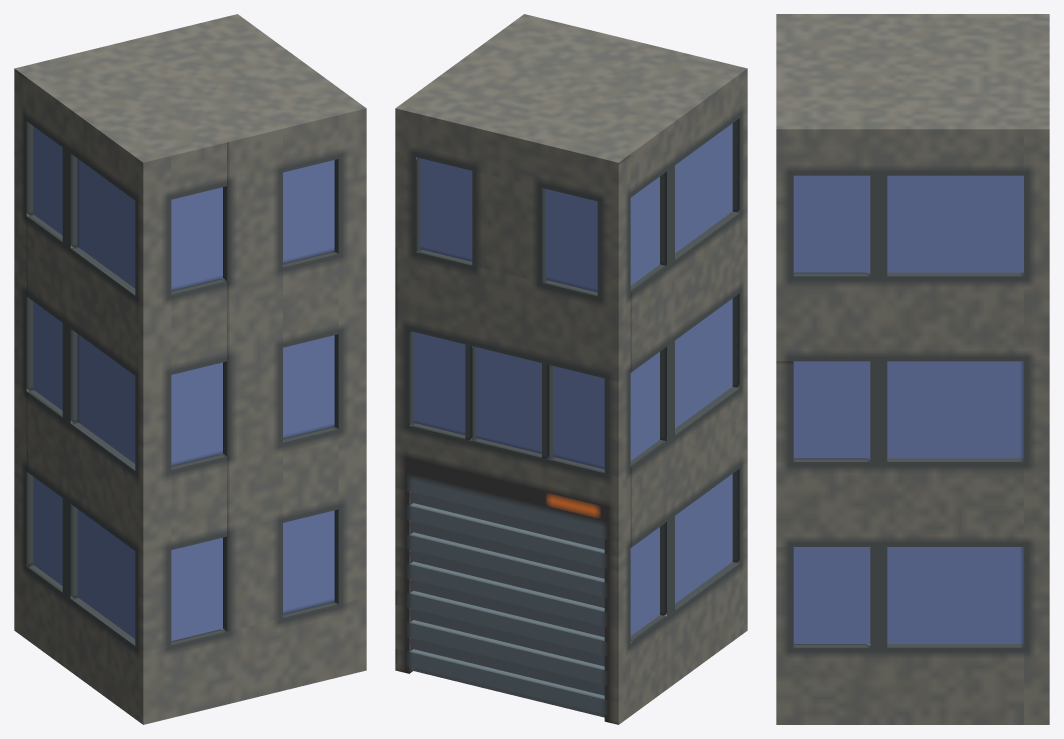
The model's file is budynek_un3_01.dae.
The picture shows the model from 3 angles, left to right: view 1: azimuth 30°, elevation 25°; view 2: azimuth 150°, elevation 25°; view 3: azimuth 270°, elevation 25°; orthographic projection. The views are drawn at different scales.
Visible parts, largest first — view 1: Content; view 2: Content; view 3: Content.
Part boxes in pixels (box(x1,y1,x2,y2)): Content: box(14, 14, 366, 724); Content: box(395, 14, 747, 724); Content: box(776, 14, 1049, 724).
Bounding box in the file's own units: 32 × 77 × 32.
Materials: 1 (1 with a texture image).
